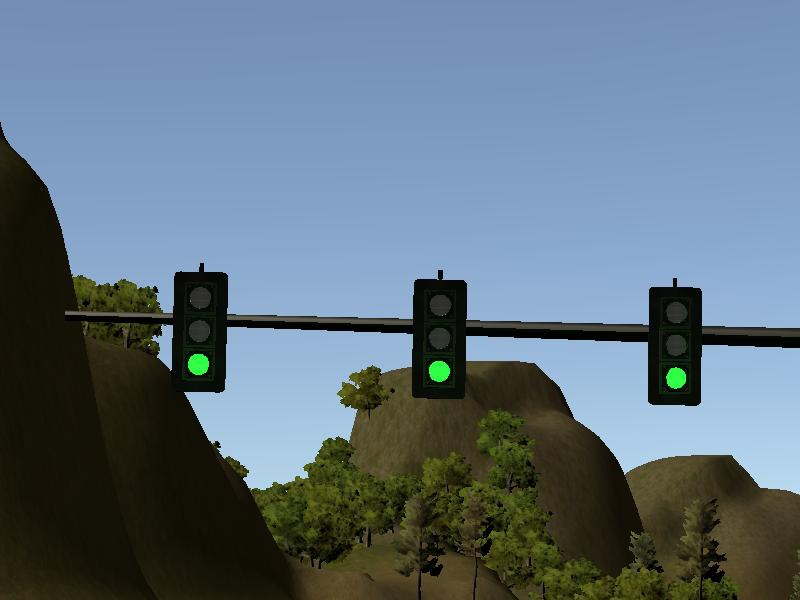Green: (173, 271, 225, 393), (415, 279, 465, 400), (650, 288, 700, 406)
